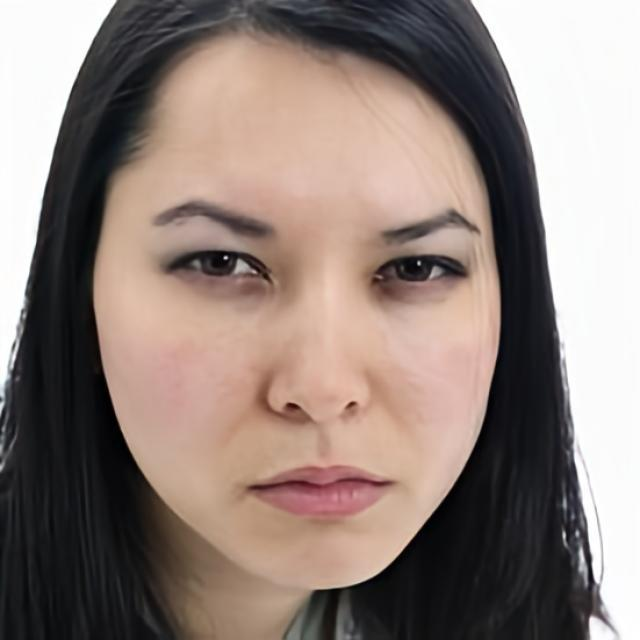anger: (100, 44, 504, 587)
